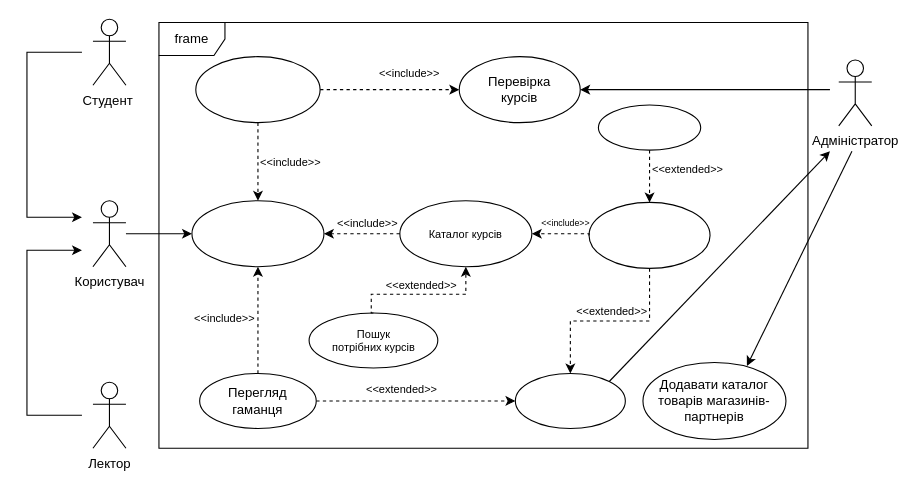
Image size: 917x491. Some labels were removed from this diagram. The shapes that lost their labels are listed below. From the top down, each one's centre as x and y in pixels, then its label:
point 257,89: Створення курсів
point 649,127: Залишити відгук
point 257,233: Авторизація користувача
point 649,234: Замовлення курсу
point 569,400: Google Pay
